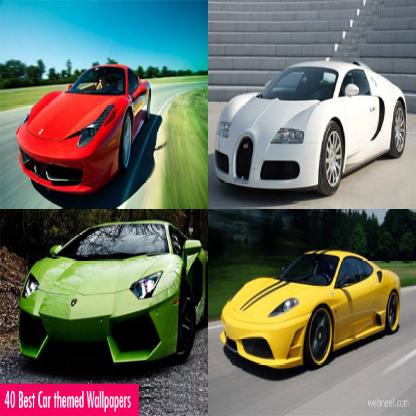car: (13, 219, 207, 371), (214, 57, 407, 188), (219, 248, 402, 377), (18, 62, 152, 192)
